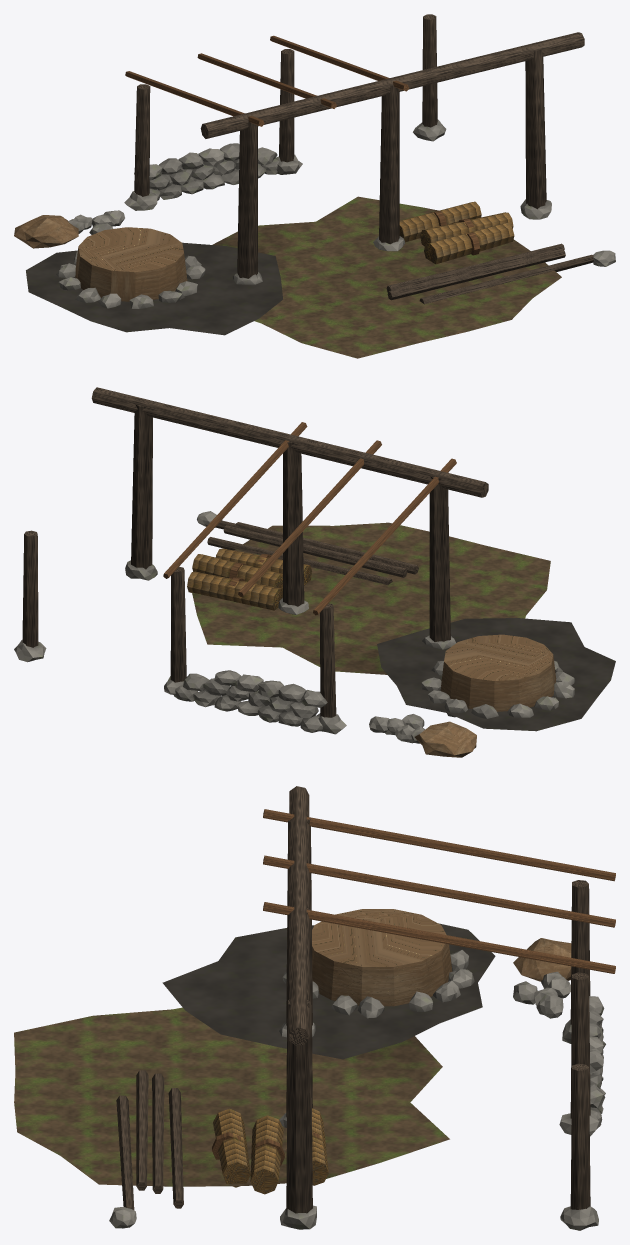
Rendered from cantiere_officina_fabbro.glb.
3 renders of one model, top to bottom at view 1: azimuth 30°, elevation 25°; view 2: azimuth 150°, elevation 25°; view 3: azimuth 270°, elevation 25°, orthographic. The views are drawn at different scales.
Visible parts, largest first — view 1: cantiere_officina_fabbro; view 2: cantiere_officina_fabbro; view 3: cantiere_officina_fabbro.
Part boxes in pixels (left/top/right/bottom): cantiere_officina_fabbro: left=14, top=14, right=615, bottom=358; cantiere_officina_fabbro: left=14, top=387, right=615, bottom=757; cantiere_officina_fabbro: left=14, top=786, right=615, bottom=1230.
Bounding box in the file's own units: 8.83 × 2.86 × 6.85.
7 materials, 7 textured.
